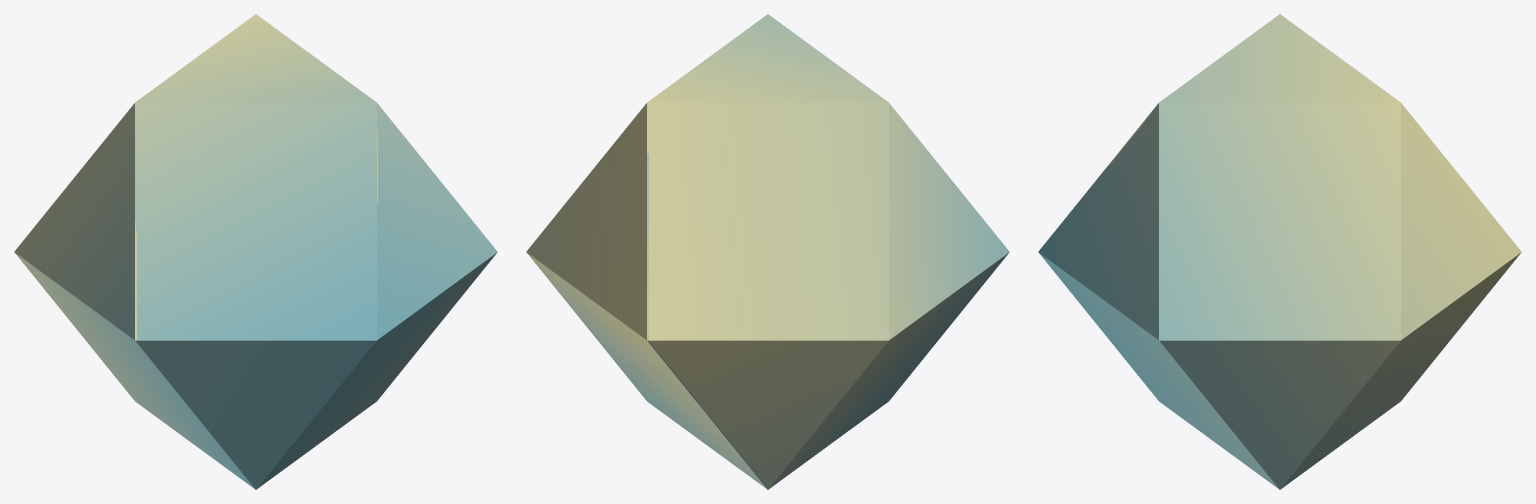
File: Cuboctahedron.glb
3 views of the same model, side by side, from view 1: azimuth 30°, elevation 25°; view 2: azimuth 150°, elevation 25°; view 3: azimuth 270°, elevation 25° (orthographic).
Parts seen in each view (by area): view 1: Cuboctahedron; view 2: Cuboctahedron; view 3: Cuboctahedron.
Part boxes in pixels (left/top/right/bottom): Cuboctahedron: left=14, top=14, right=497, bottom=489; Cuboctahedron: left=526, top=14, right=1009, bottom=489; Cuboctahedron: left=1038, top=14, right=1521, bottom=489.
Bounding box in the file's own units: 1.62 × 1.53 × 1.87.
Materials: 1 (1 with a texture image).
